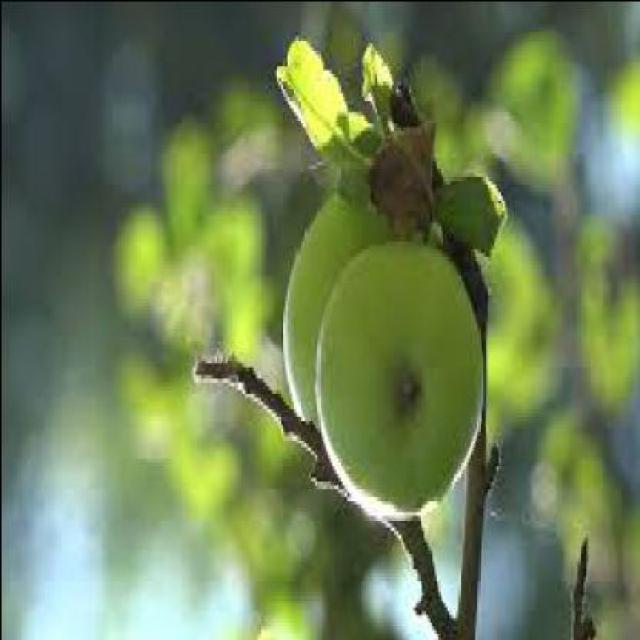BIODEGRADABLE: (318, 246, 482, 509), (284, 194, 389, 420)
